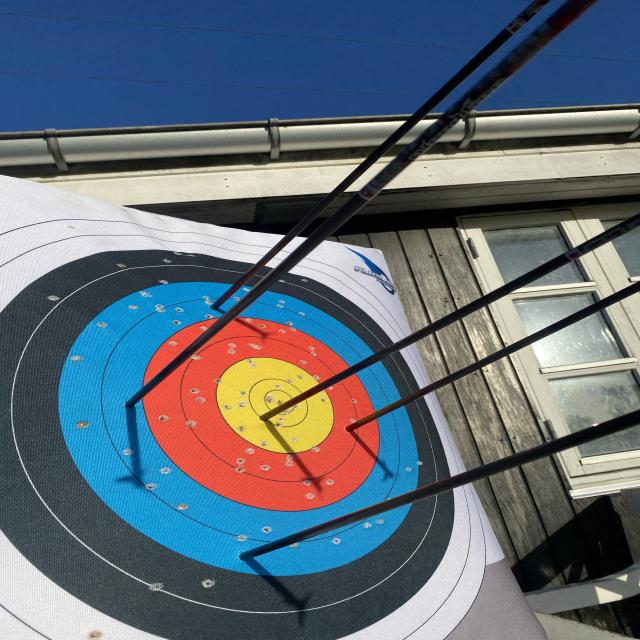Arrow_Blue: (115, 388, 154, 423), (202, 292, 240, 318), (234, 543, 272, 567)
Arrow_Red: (340, 414, 363, 443)
Arrow_Yellow: (249, 400, 290, 437)
